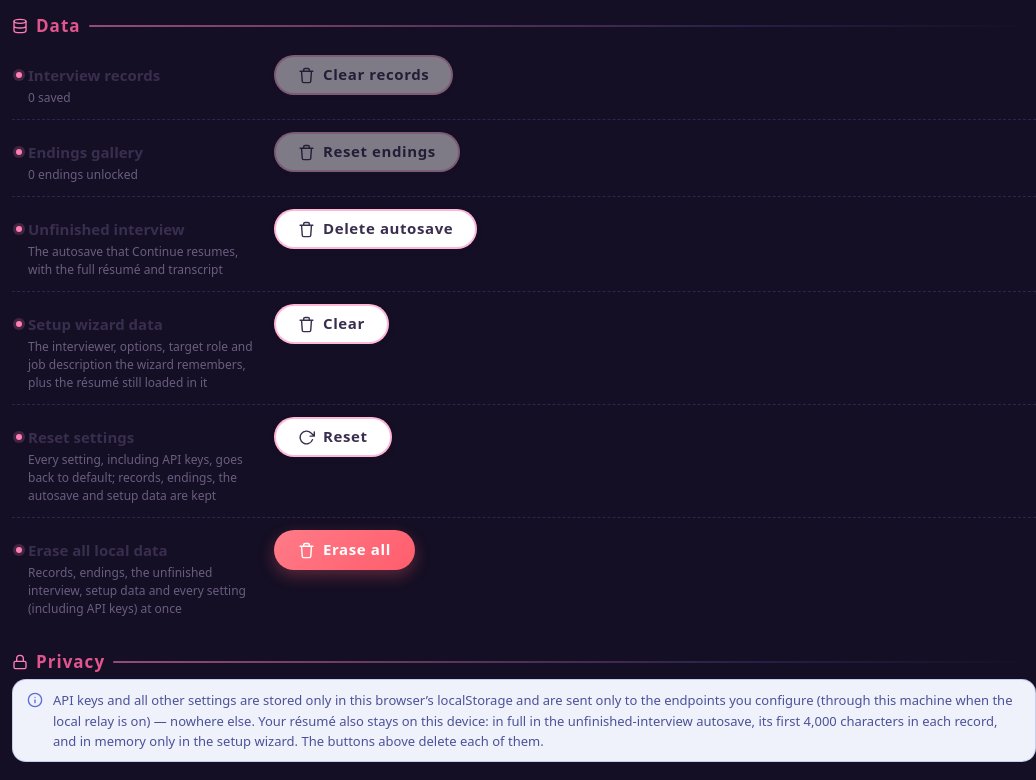
Data tab › deletes the unfinished interview (autosave + resumable in-memory session)
Expected: the element with test id "data-saved-row" shows "Continue resumes", [28,243,238,278]
Click the button with test id "data-delete-saved" at (376, 229), box [274,209,477,249]
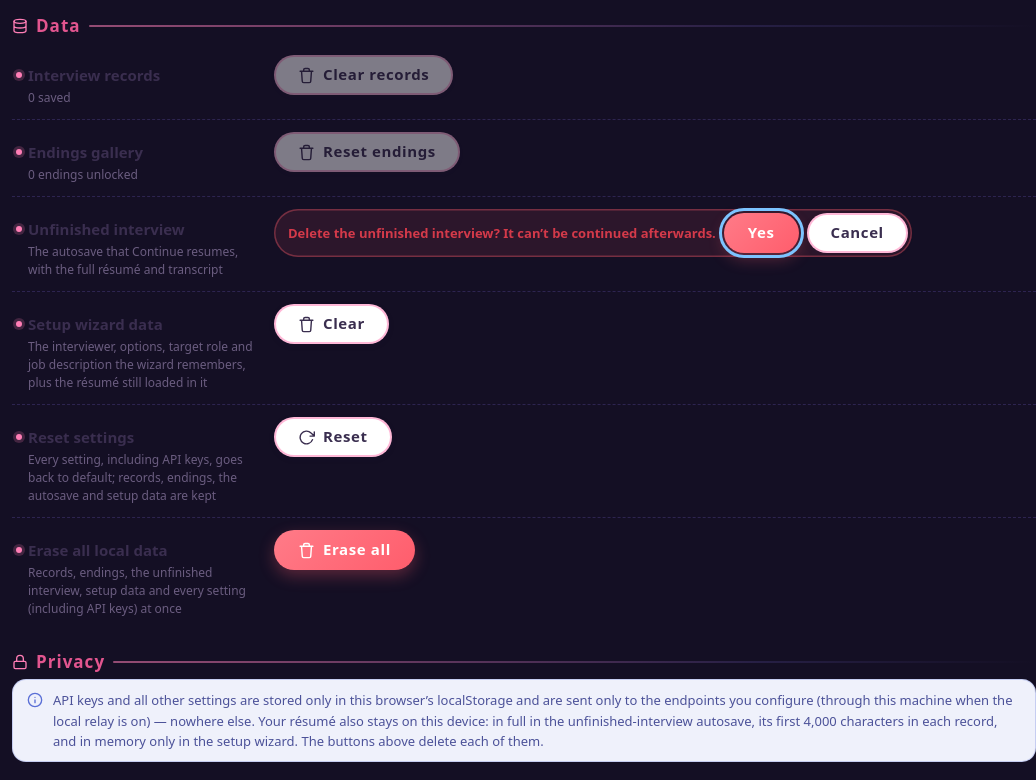
Click the button "Yes" at (761, 233), box [724,213,798,253]
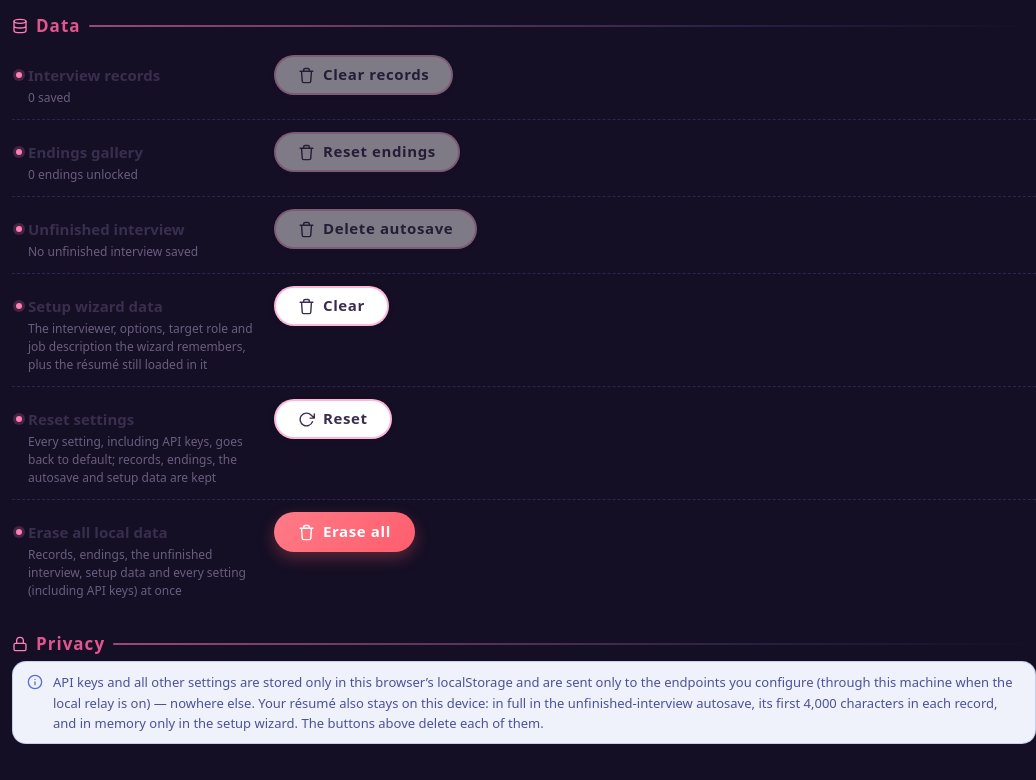
Expected: the button with test id "data-delete-saved" is disabled, [274,209,477,249]
Expected: the element with test id "data-saved-row" shows "No unfinished interview", [28,243,198,260]
